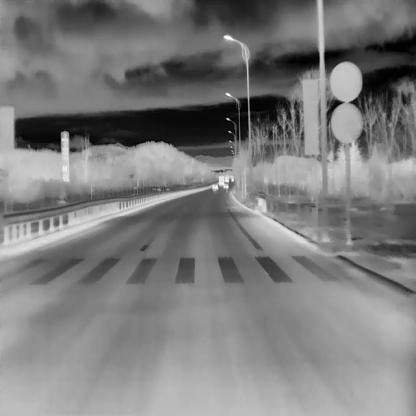car: (223, 182, 228, 187), (212, 184, 217, 188)
truck: (218, 175, 224, 185), (224, 174, 228, 181)
